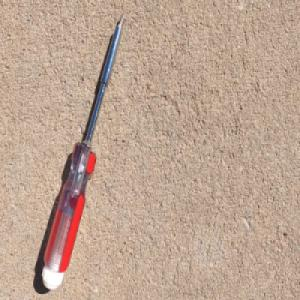Screwdriver: (39, 13, 125, 286)
